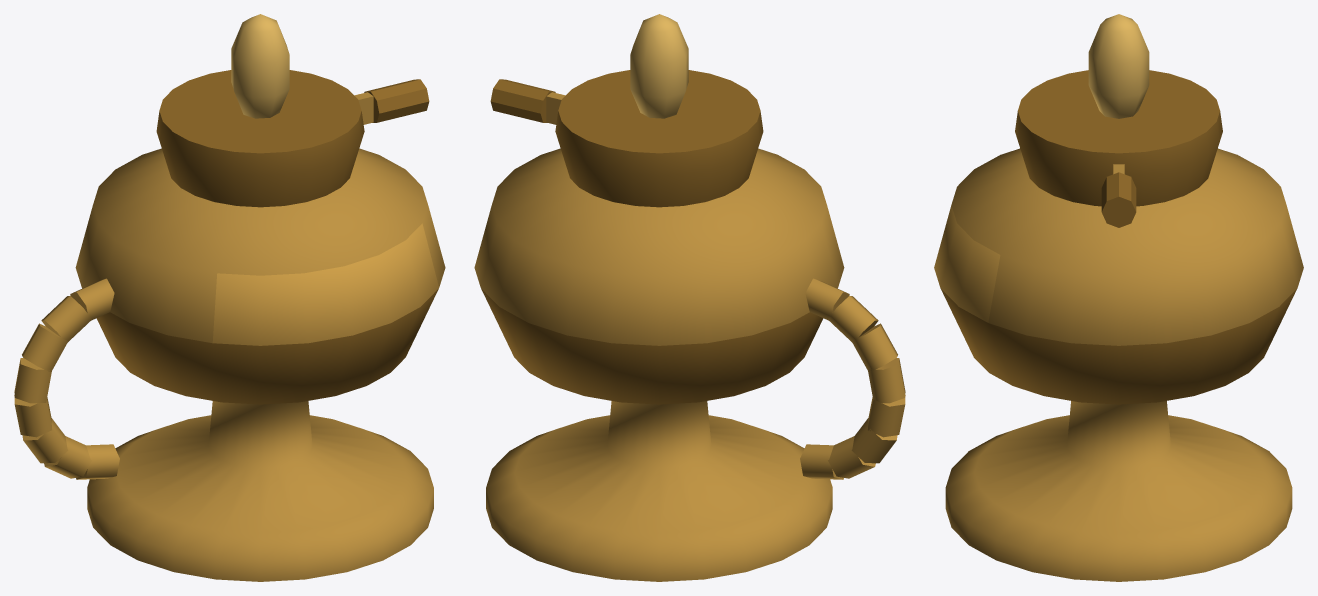
Rendered from oil_lamp.glb.
3 renders of one model, left to right at view 1: azimuth 30°, elevation 25°; view 2: azimuth 150°, elevation 25°; view 3: azimuth 270°, elevation 25°, orthographic.
Visible parts, largest first — view 1: body, body_nl; view 2: body, body_nl; view 3: body, body_nl.
Part boxes in pixels (<box>): body: <box>14,70,445,581</box>; body_nl: <box>231,14,289,118</box>; body: <box>474,70,905,581</box>; body_nl: <box>630,14,688,118</box>; body: <box>934,70,1303,581</box>; body_nl: <box>1088,14,1149,118</box>.
Size of the model in its own units: 8.11 by 9.44 by 6.4.
